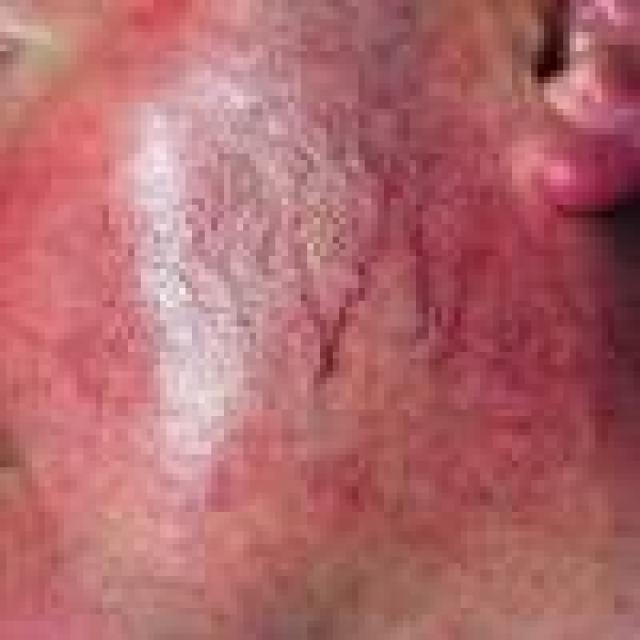Rosacea: (0, 8, 640, 546)
